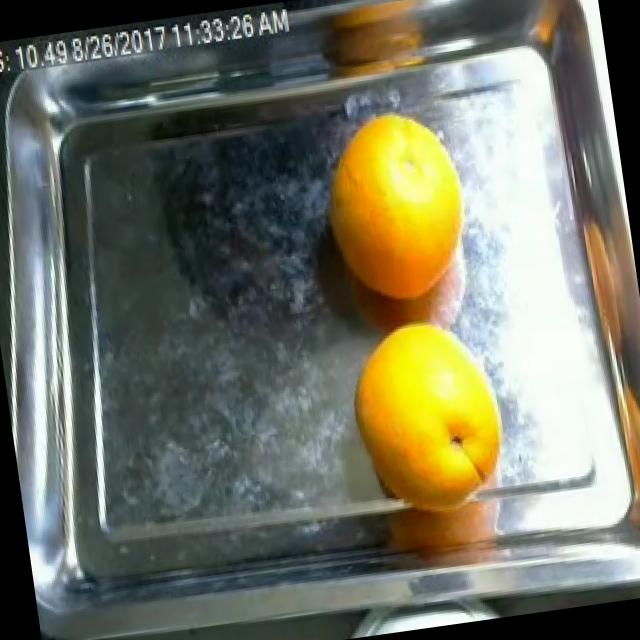Fruit: (298, 85, 492, 314), (303, 0, 445, 80)
